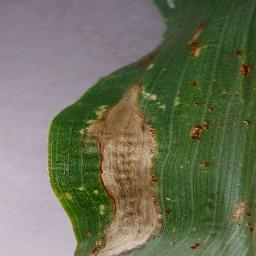Corn_Blight: (73, 72, 170, 256), (44, 119, 74, 211), (186, 74, 215, 150), (182, 19, 211, 60), (231, 199, 256, 236), (232, 44, 254, 81), (134, 45, 162, 72), (217, 85, 244, 101), (188, 236, 204, 255), (237, 116, 256, 129), (197, 160, 215, 171), (173, 86, 181, 110), (212, 188, 222, 200)
